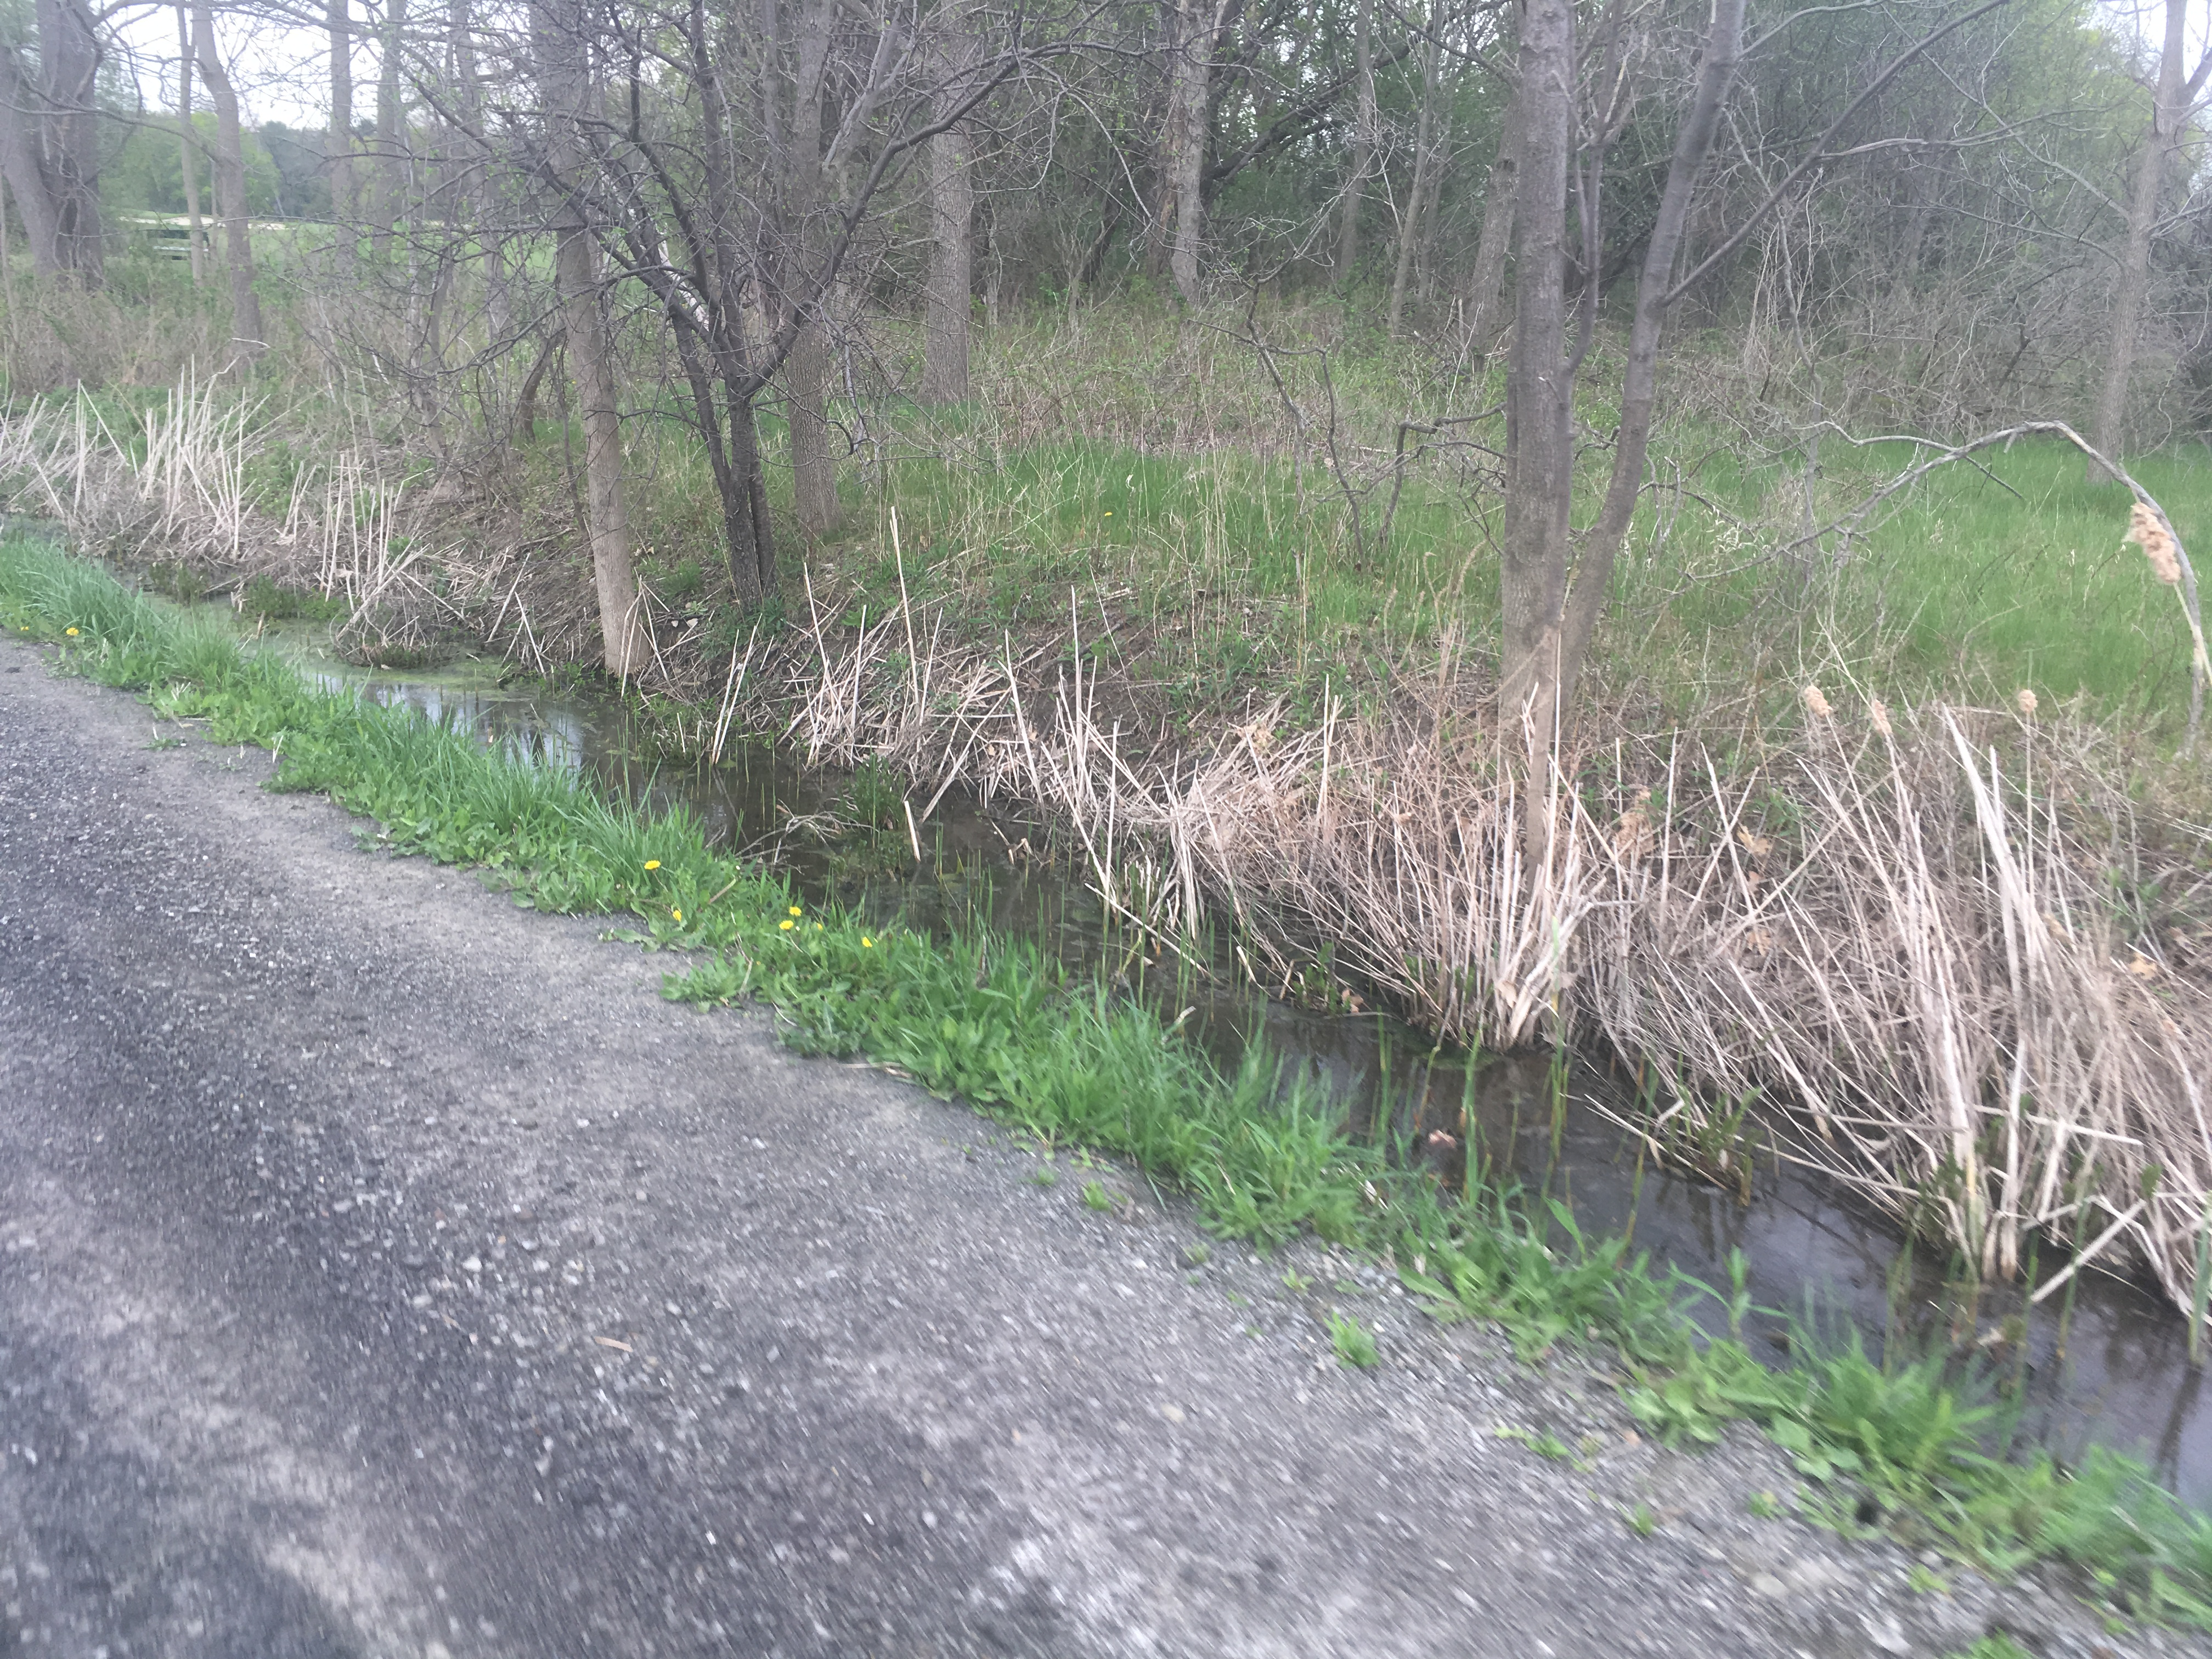cattails: (1477, 629, 2209, 1180)
water: (188, 528, 2212, 1628)
